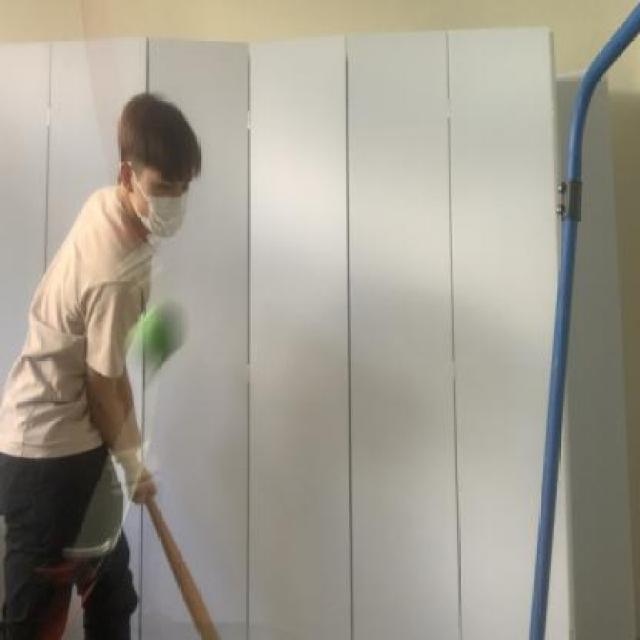baseball: (134, 294, 192, 366)
